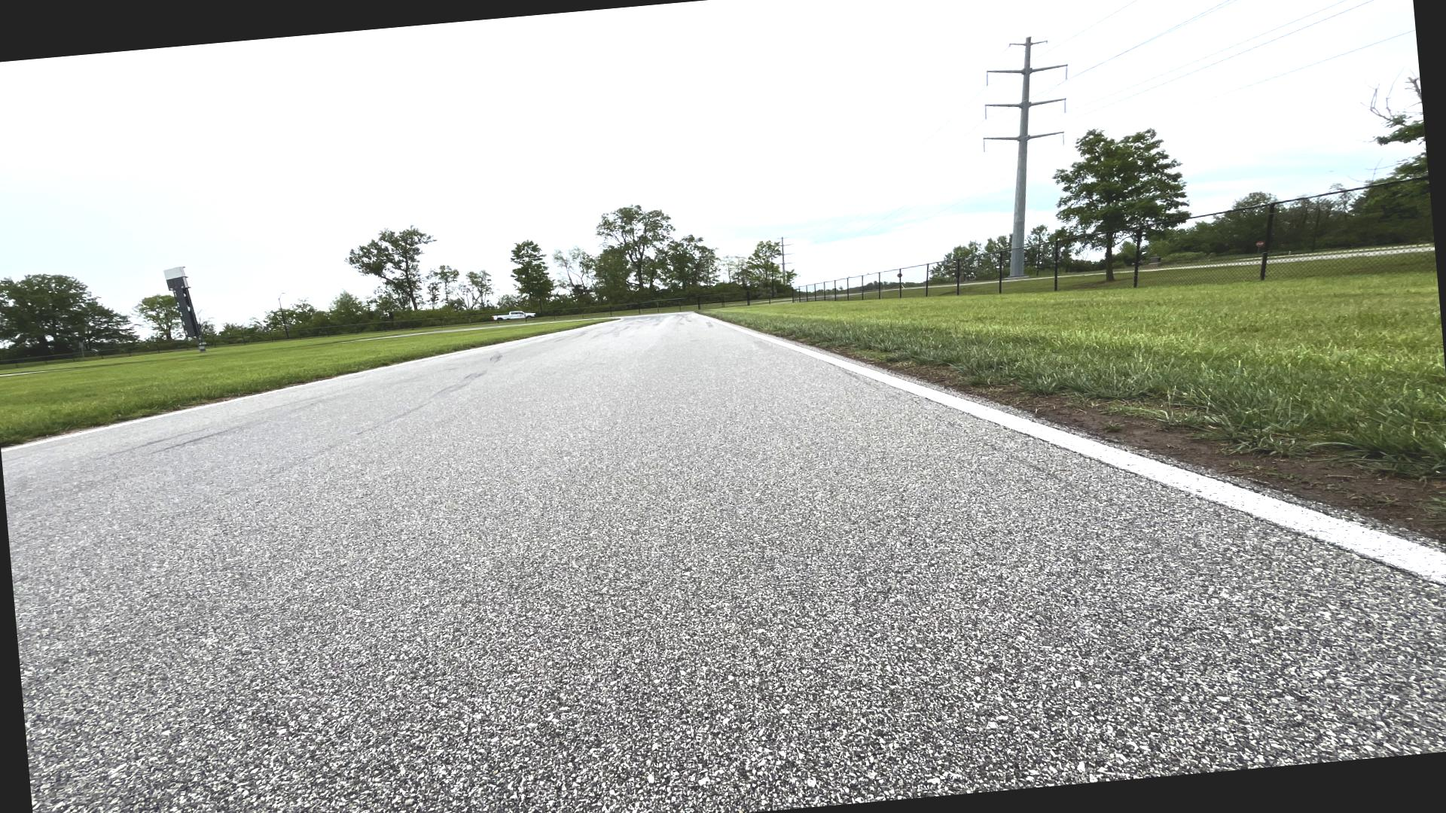white-line: (694, 312, 1445, 585), (1, 319, 622, 452)
